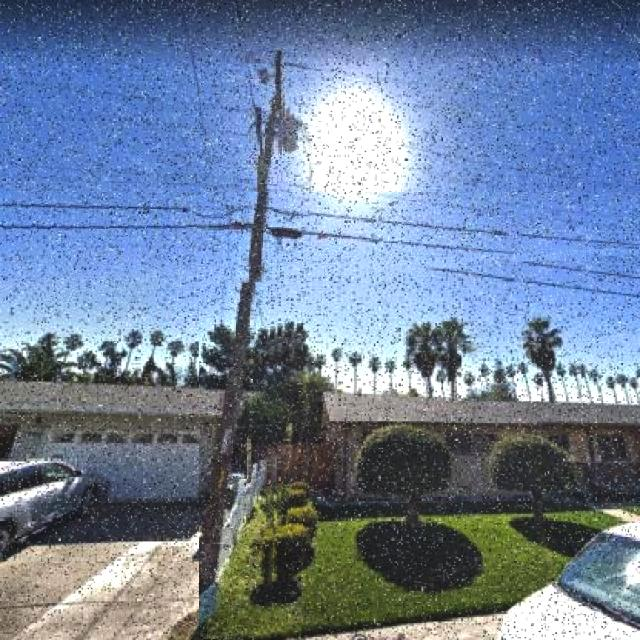crossarm: (252, 108, 266, 156)
pole: (199, 55, 283, 637)
transformer: (280, 106, 303, 154)
wire: (3, 192, 640, 255), (0, 222, 639, 265)
